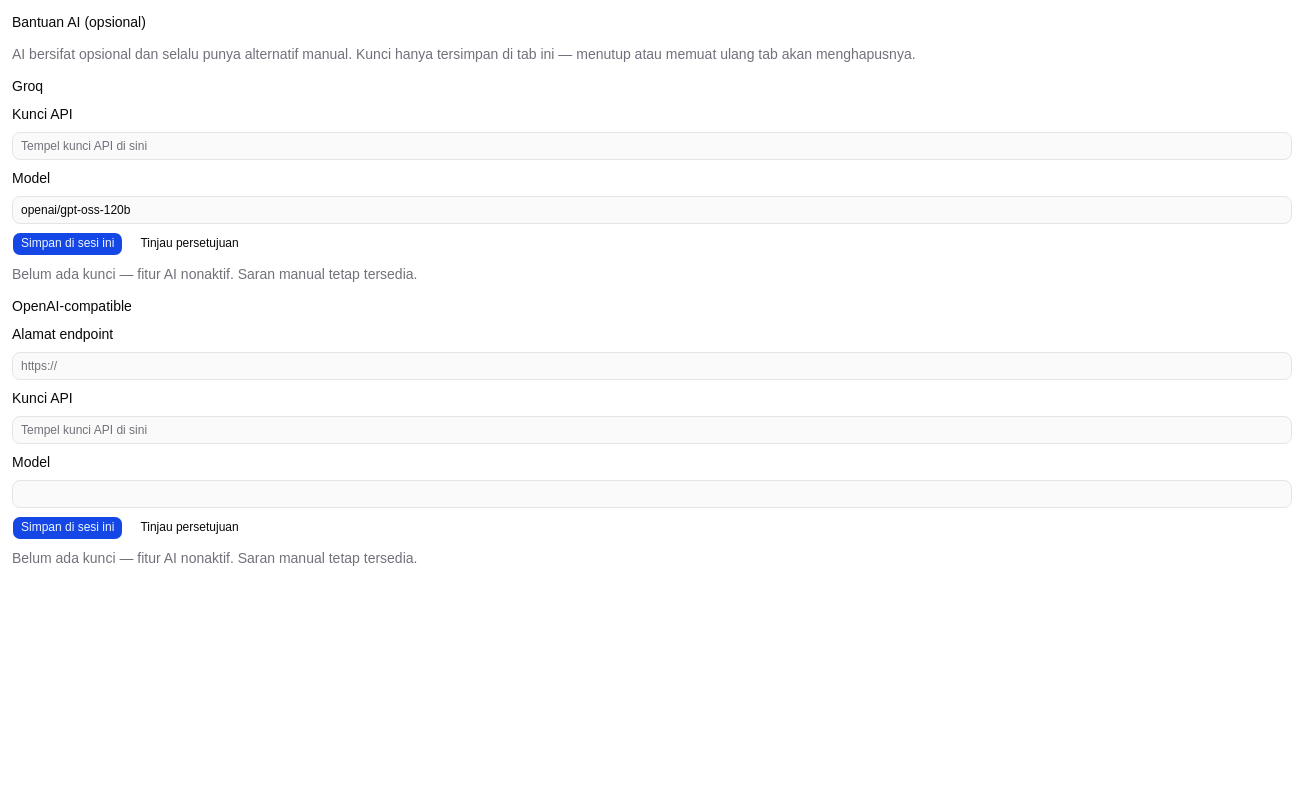
Test case: AiSettings (Task 18, FR-407/408/110) › shows the unconfigured reason and saves a Groq key to the session
Check: the text "Belum ada kunci — fitur AI nonaktif. Saran manual tetap tersedia." is shown 2 times, box [12,266,418,282]; [12,550,418,566]
In the password field labelled "Kunci API" below "Groq": (652, 146) [12,132,1292,160], type "gsk-test-key"
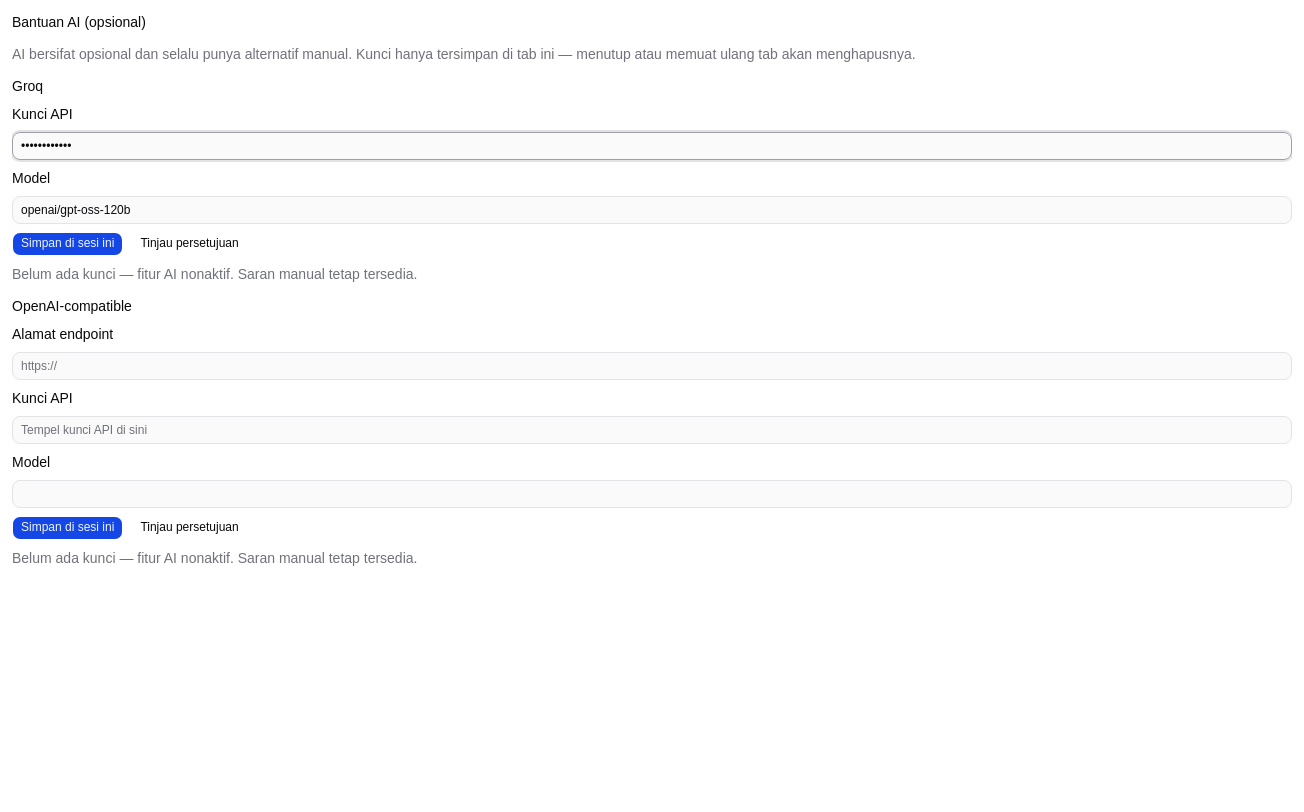
Click the button "Simpan di sesi ini" below "Groq": (68, 244) [12,232,123,256]
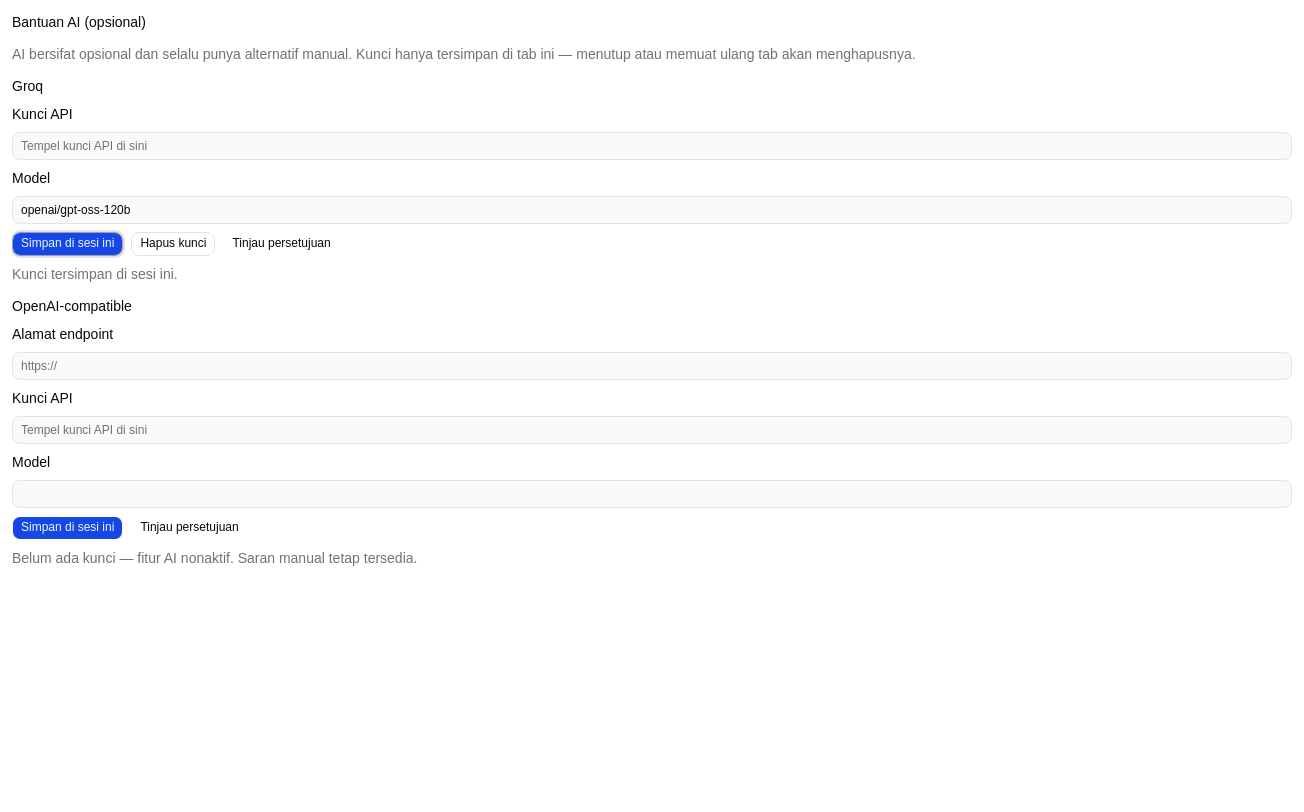
Check: the text "Kunci tersimpan di sesi ini." is shown, box [12,266,178,282]
